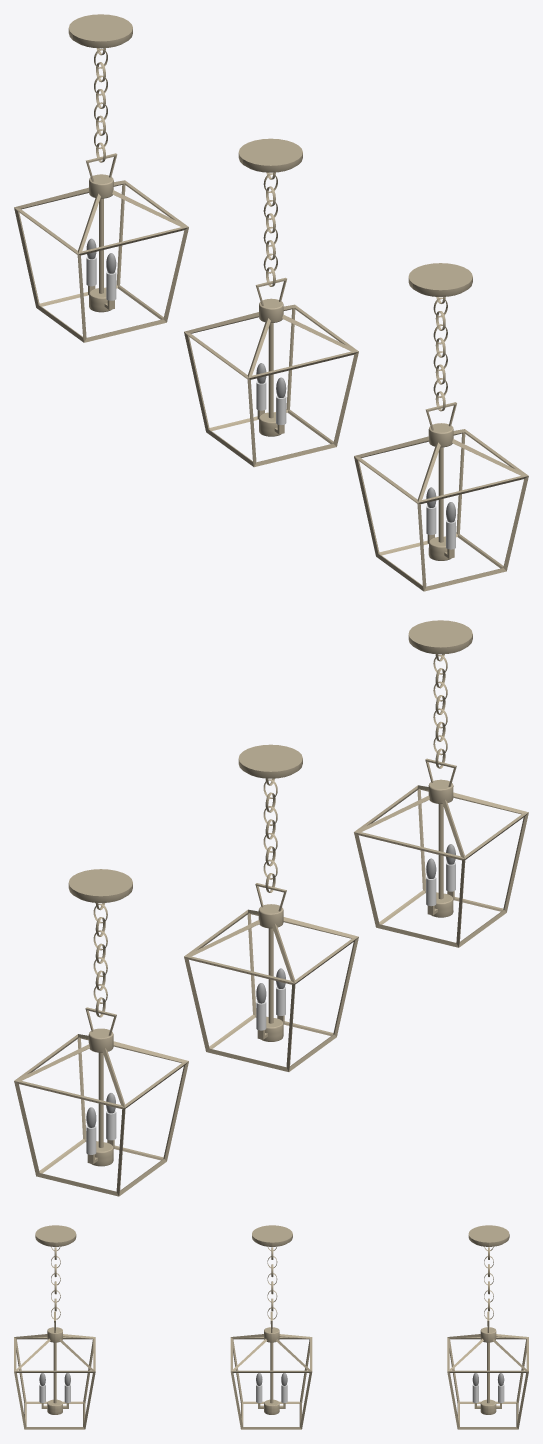
Rendered from Light_DiannaSatinBrass.glb.
3 views of the same model, one above another, from view 1: azimuth 30°, elevation 25°; view 2: azimuth 150°, elevation 25°; view 3: azimuth 270°, elevation 25° (orthographic). The views are drawn at different scales.
Visible parts, largest first — view 1: Dianna Satin Brass; view 2: Dianna Satin Brass; view 3: Dianna Satin Brass.
Boxes of the visible parts, <box> form: Dianna Satin Brass: <box>14,14,528,591</box>; Dianna Satin Brass: <box>14,620,528,1196</box>; Dianna Satin Brass: <box>14,1225,528,1429</box>.
Bounding box in the file's own units: 0.3781 × 0.9331 × 2.38.
